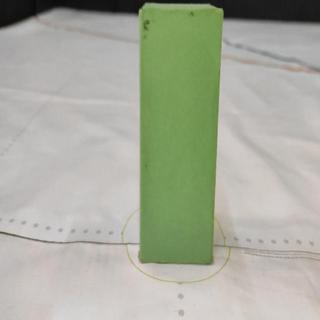greenbox: (133, 0, 221, 270)
